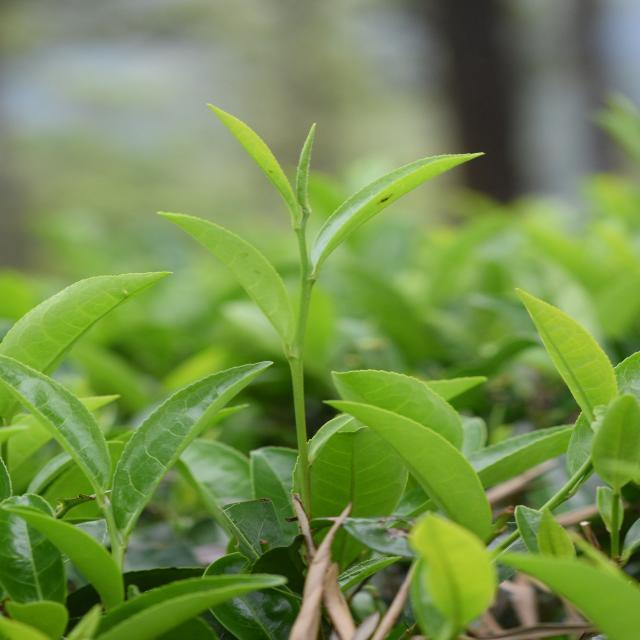Stem: (112, 534, 125, 553), (302, 279, 312, 293)
